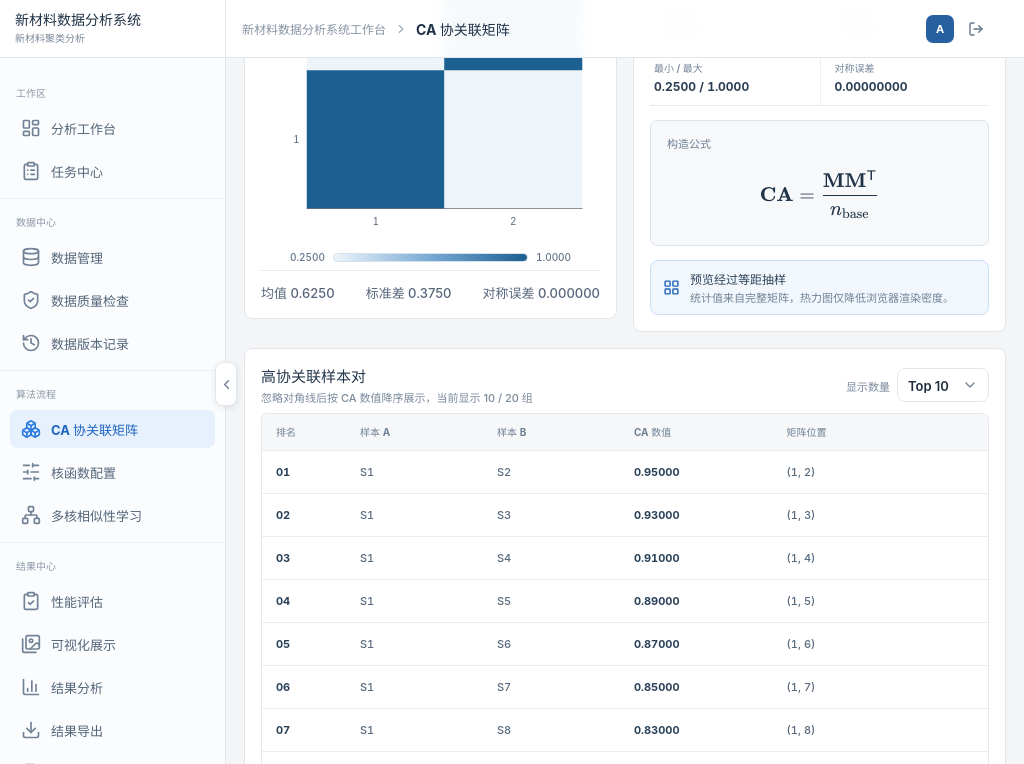
Test case: dashboard homepage › changes the visible CA ranking count without altering the persisted order
(page scrolled)
Check: the row "01 S1 S2 0.95000 (1, 2)" is shown, box [262, 450, 988, 492]
Click the dropdown named "选择高协关联样本对显示数量".
click(943, 384)  # box [897, 368, 989, 402]
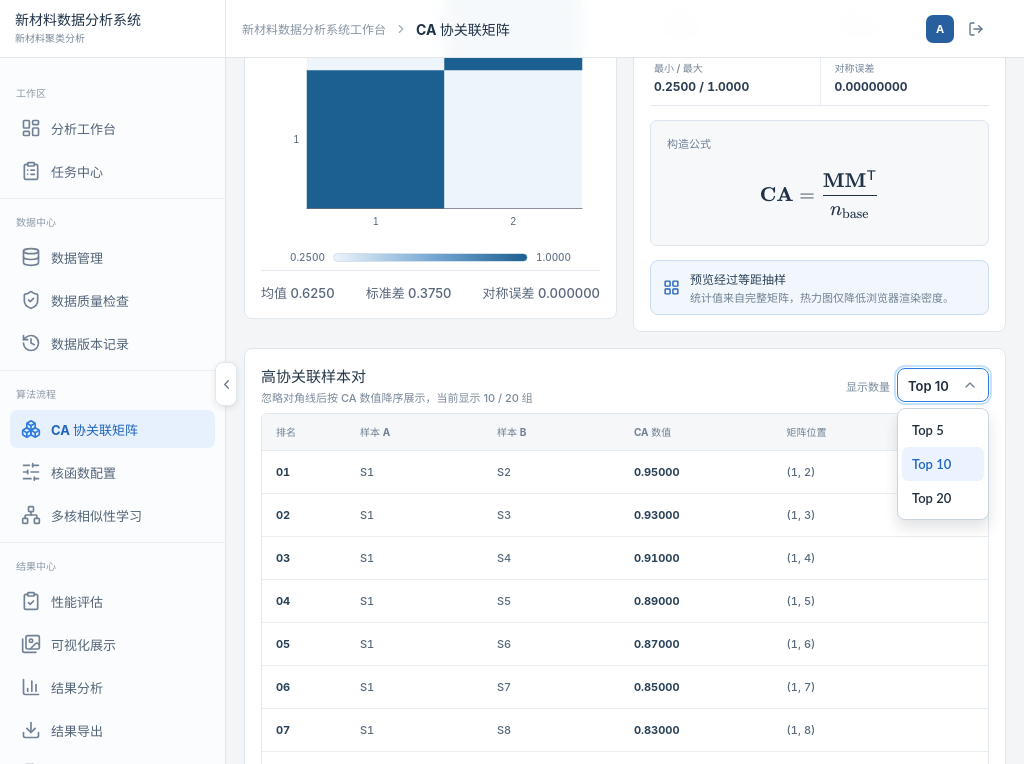
Click the option "Top 5".
click(928, 430)  # box [912, 422, 944, 438]
(page scrolled)
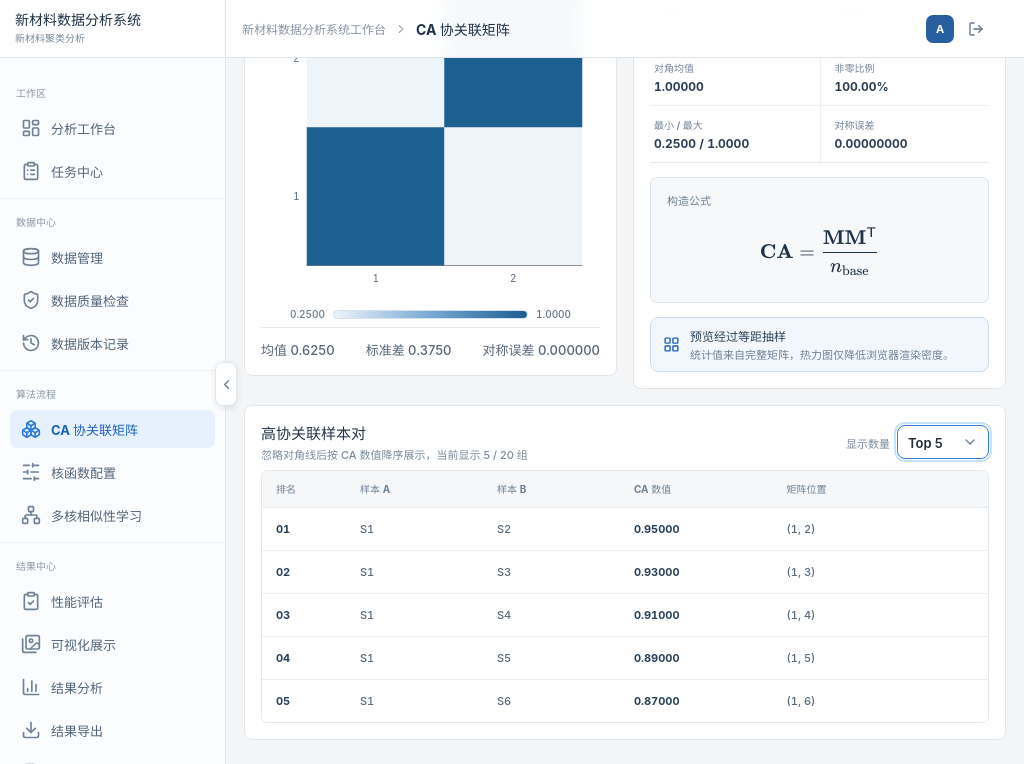
Check: the number of rows is 6, box [262, 470, 988, 506]; [262, 506, 988, 550]; [262, 550, 988, 592]; [262, 592, 988, 636]; [262, 636, 988, 678]; [262, 678, 988, 722]
Check: the text "忽略对角线后按 CA 数值降序展示，当前显示 5 / 20 组" is shown, box [261, 446, 528, 462]
